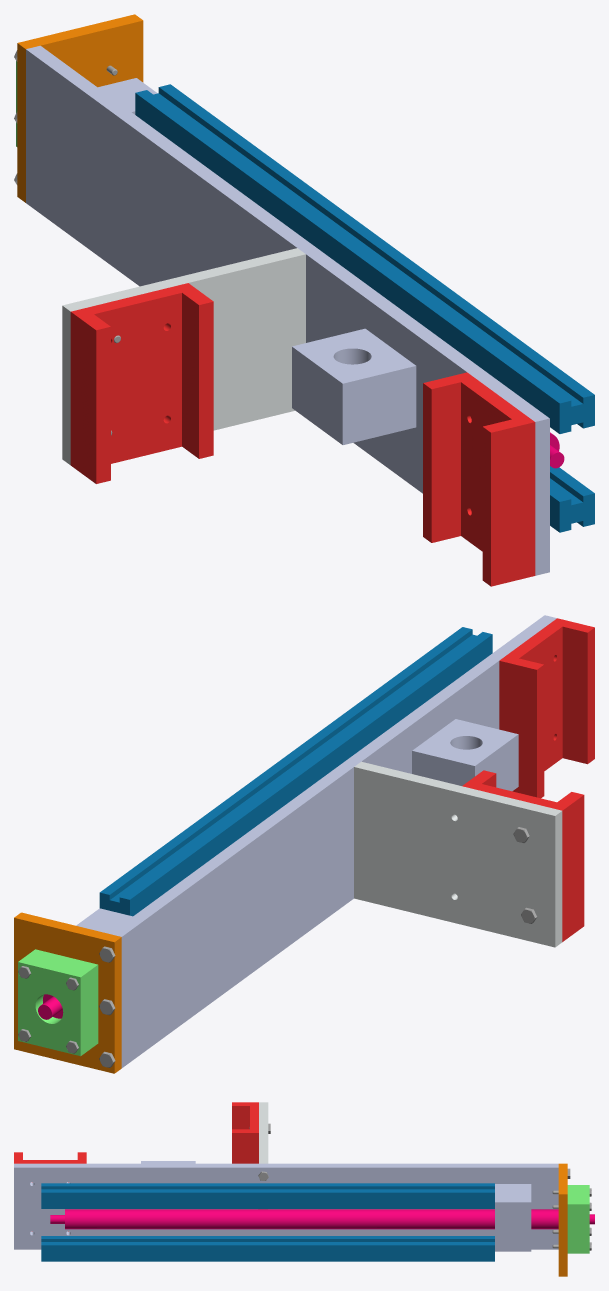
File: Arm2NEW.DAE
3 views of the same model, one above another, from view 1: azimuth 30°, elevation 25°; view 2: azimuth 150°, elevation 25°; view 3: azimuth 270°, elevation 25° (orthographic). The views are drawn at different scales.
Visible parts, largest first — view 1: NONE-DC_Shell (×9); view 2: NONE-DC_Shell (×9); view 3: NONE-DC_Shell (×10).
Part boxes in pixels (x1,y1,x2,y2): NONE-DC_Shell (×9): (17, 14, 594, 586); NONE-DC_Shell (×9): (14, 615, 594, 1073); NONE-DC_Shell (×10): (14, 1102, 594, 1276).
Bounding box in the file's own units: 0.12 × 0.32 × 0.05.
